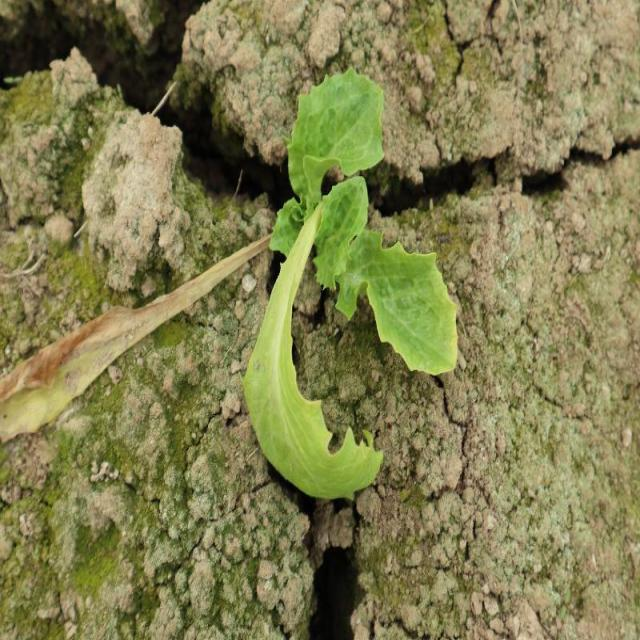crop: (246, 72, 461, 503)
